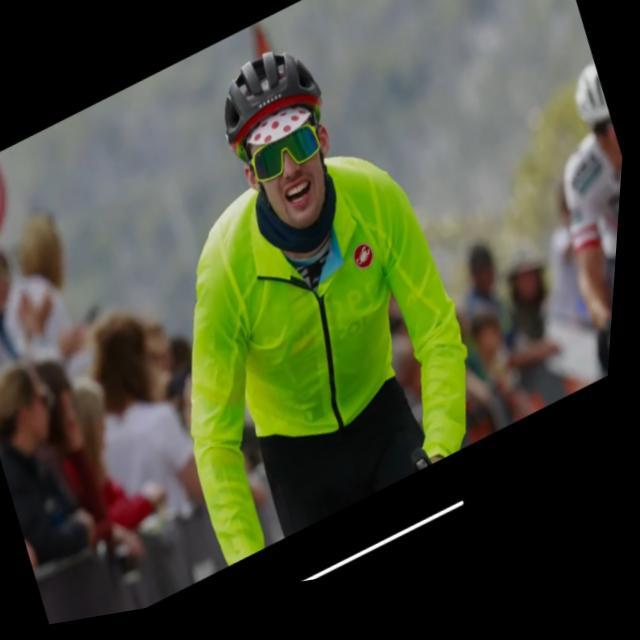Helmet: (219, 48, 337, 231)
